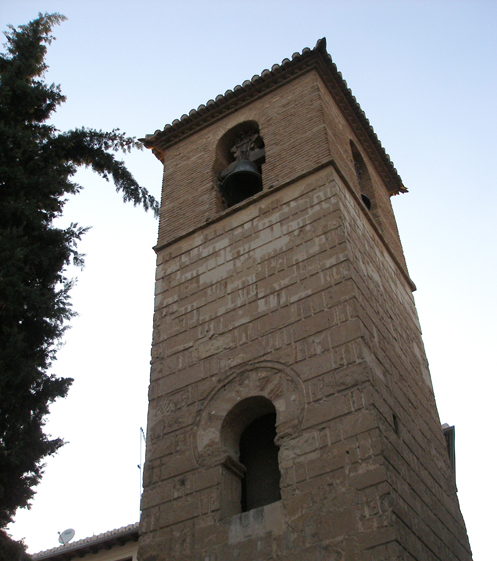arco-herradura: (190, 356, 310, 471)
